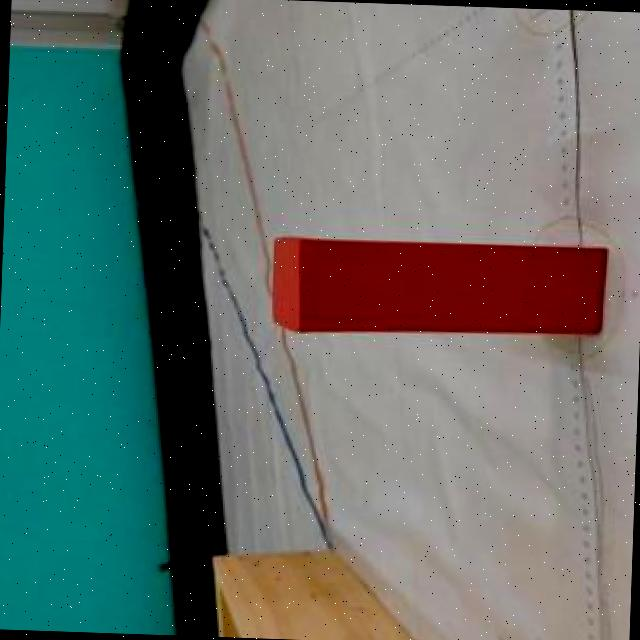redbox: (264, 232, 606, 342)
